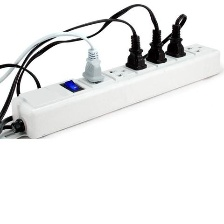three_eye_plug: (7, 37, 222, 141)
